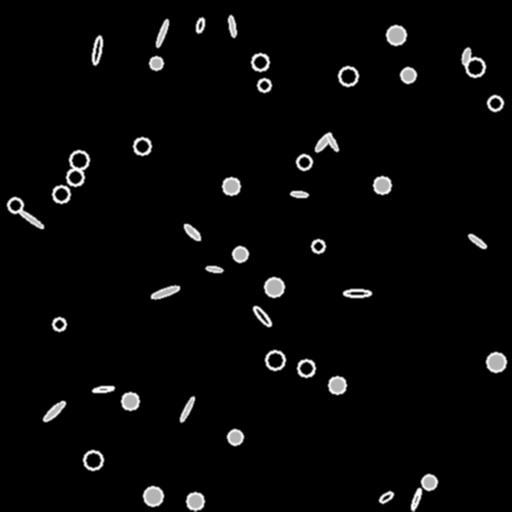pseudomonas: (42, 399, 66, 423), (18, 209, 44, 229), (150, 284, 180, 300), (252, 305, 272, 327), (179, 396, 195, 422), (155, 19, 169, 47), (314, 132, 332, 152), (182, 223, 202, 241), (91, 36, 103, 64), (467, 233, 487, 249), (410, 488, 422, 510), (325, 133, 339, 151), (378, 490, 394, 504), (461, 47, 471, 65), (228, 15, 236, 37), (344, 290, 371, 296), (93, 385, 113, 393), (195, 17, 205, 33), (206, 265, 222, 273), (291, 191, 307, 197)
synechocystis: (487, 353, 505, 371), (387, 26, 405, 44), (466, 58, 484, 76), (84, 451, 102, 469), (266, 351, 284, 369), (144, 487, 162, 505), (265, 278, 283, 296), (339, 67, 357, 85), (70, 151, 88, 169), (122, 393, 138, 409), (187, 493, 203, 509), (67, 169, 83, 185), (223, 178, 239, 194), (252, 54, 268, 70), (329, 377, 345, 393), (134, 138, 150, 154), (53, 186, 69, 202), (298, 360, 314, 376), (374, 177, 390, 193), (8, 198, 22, 212), (297, 155, 311, 169), (422, 475, 436, 489), (488, 96, 502, 110), (228, 430, 242, 444), (233, 247, 247, 261), (401, 68, 415, 82), (312, 240, 324, 252), (53, 318, 65, 330), (150, 57, 162, 69), (258, 79, 270, 91)
